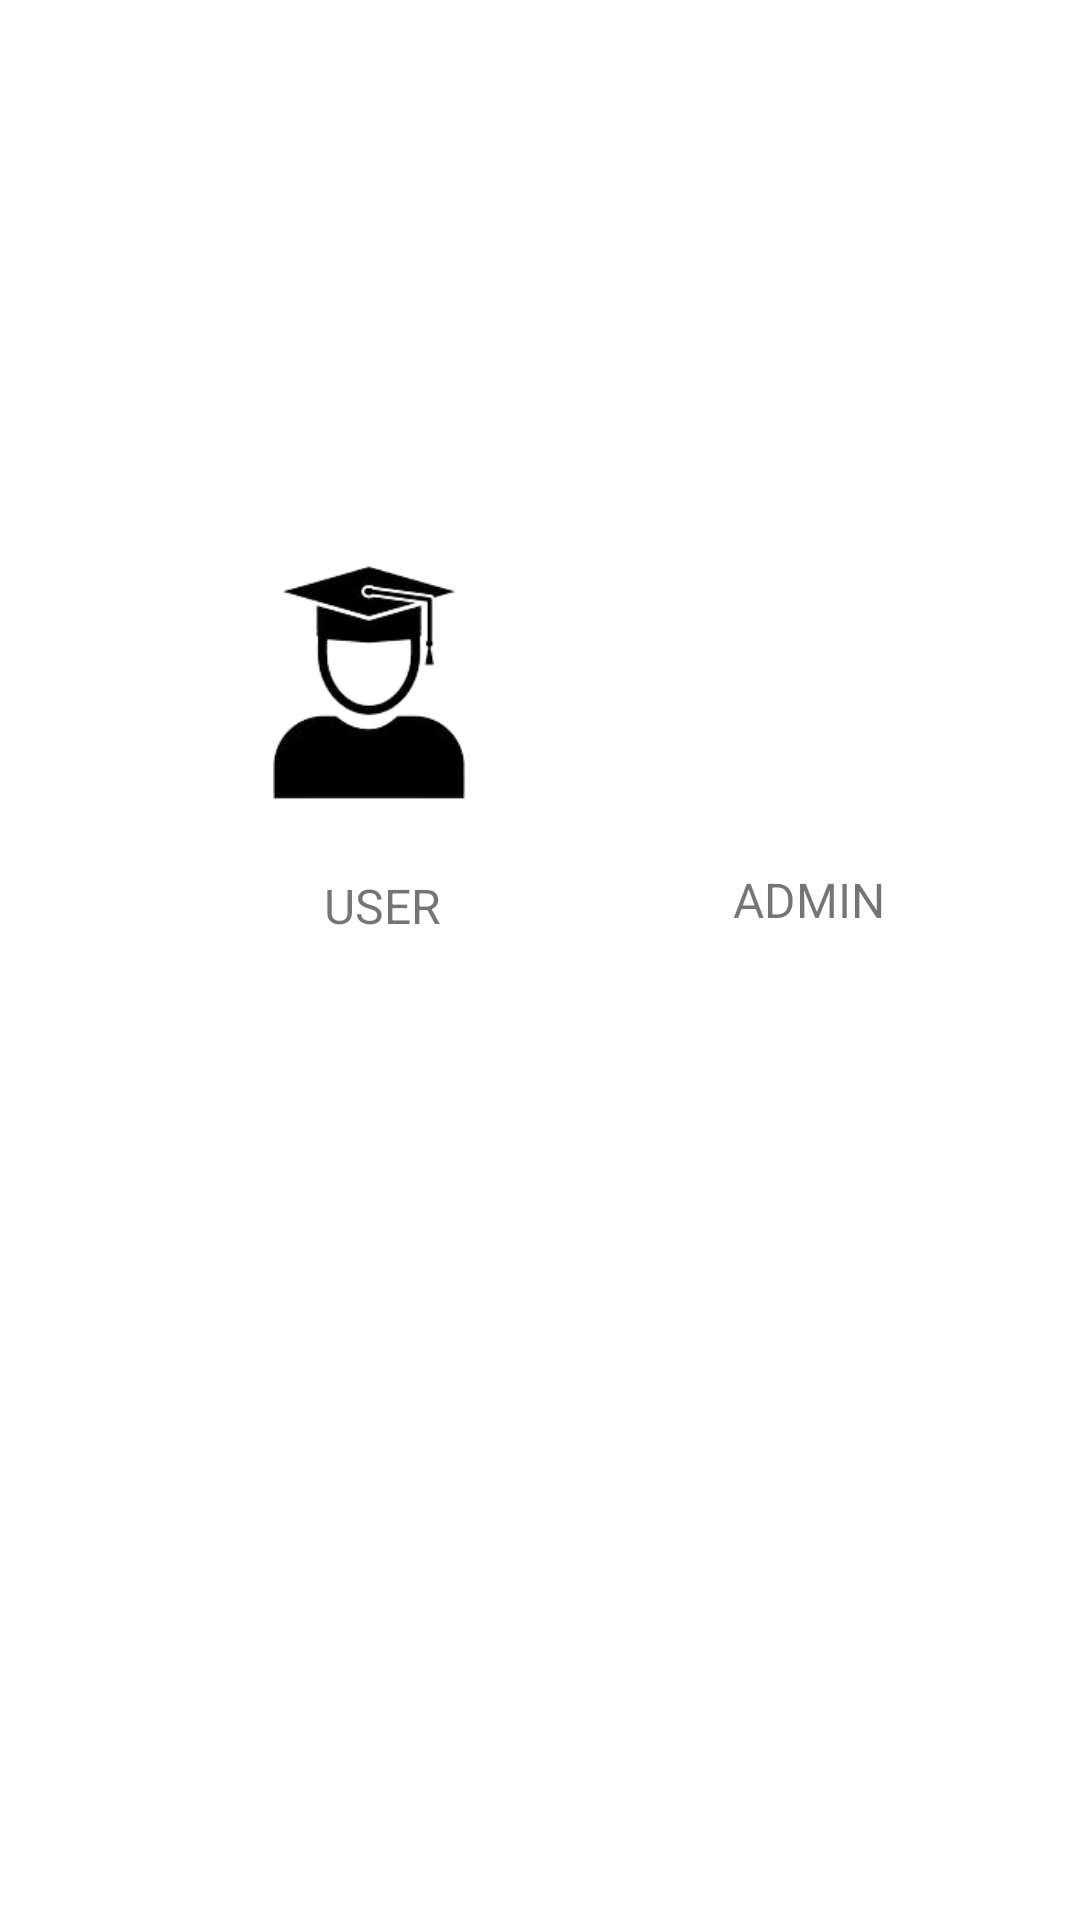

Icons on this 1080 x 1920 Android screen, each with the point to tap as point (x, y):
student: point (369, 682)
